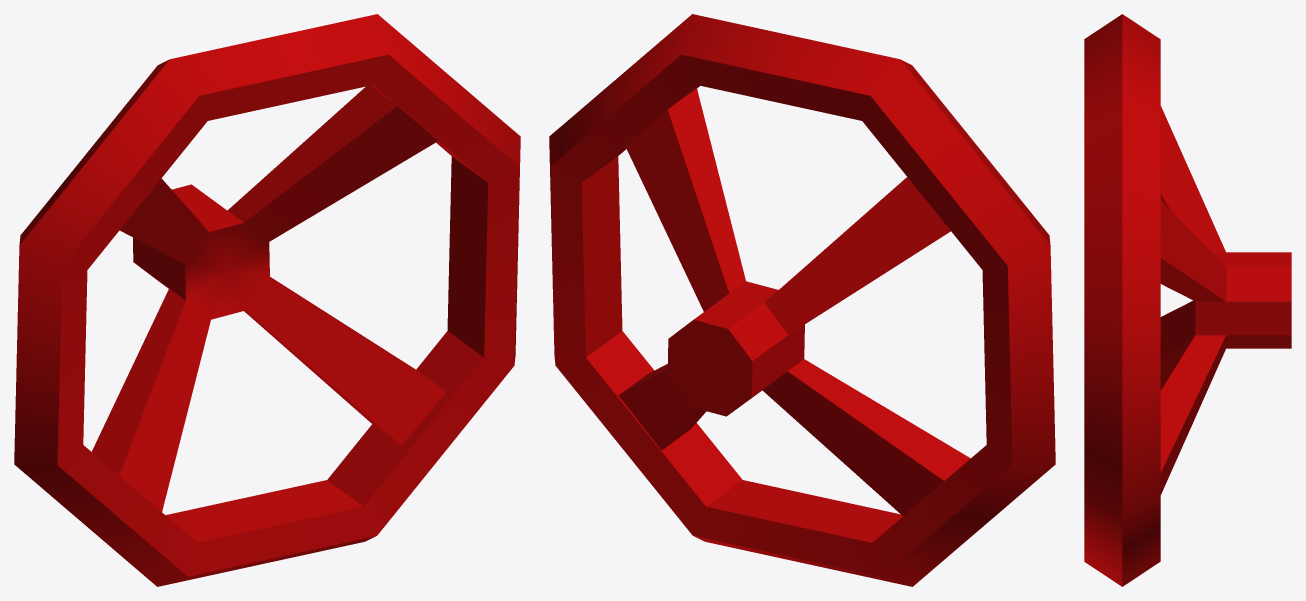
File: model_pipe_kit_valve.fbx
3 views of the same model, side by side, from view 1: azimuth 30°, elevation 25°; view 2: azimuth 150°, elevation 25°; view 3: azimuth 270°, elevation 25° (orthographic). The views are drawn at different scales.
Visible parts, largest first — view 1: model_pipe_kit_valve; view 2: model_pipe_kit_valve; view 3: model_pipe_kit_valve.
Part boxes in pixels (x1=…): model_pipe_kit_valve: x1=14, y1=14, x2=520, y2=586; model_pipe_kit_valve: x1=549, y1=14, x2=1055, y2=586; model_pipe_kit_valve: x1=1084, y1=14, x2=1291, y2=586.
Size of the model in its own units: 37.44 by 37.44 by 14.51.
1 material, 1 textured.
